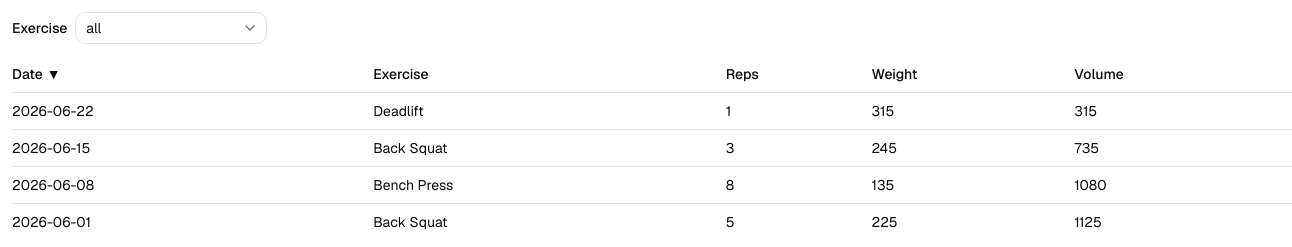
it: WorkoutHistoryTable › filters to a single exercise via the exercise picker
Click the dropdown named "exercise" at (171, 28), box left=75, top=12, right=267, bottom=44
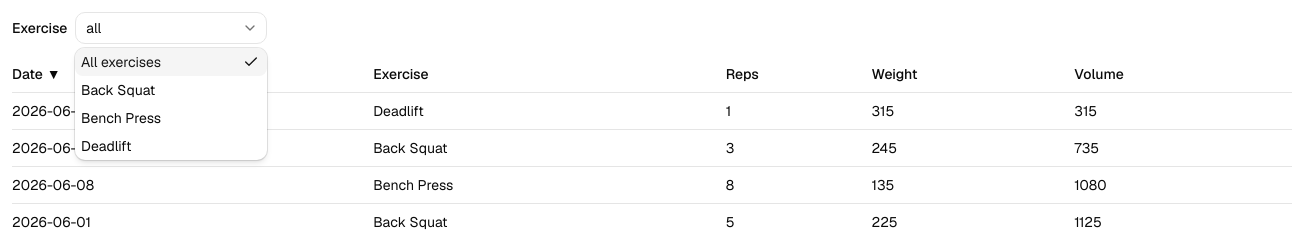
Click the option "Back Squat" at (118, 90), box left=81, top=81, right=155, bottom=99
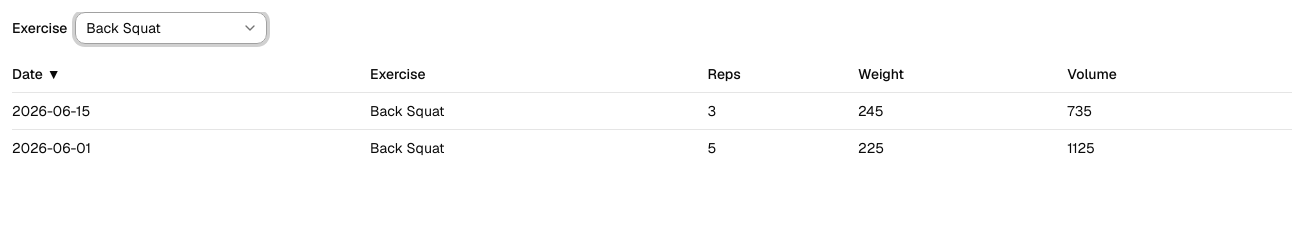
Now the text "Back Squat" is shown, box left=86, top=19, right=161, bottom=37
